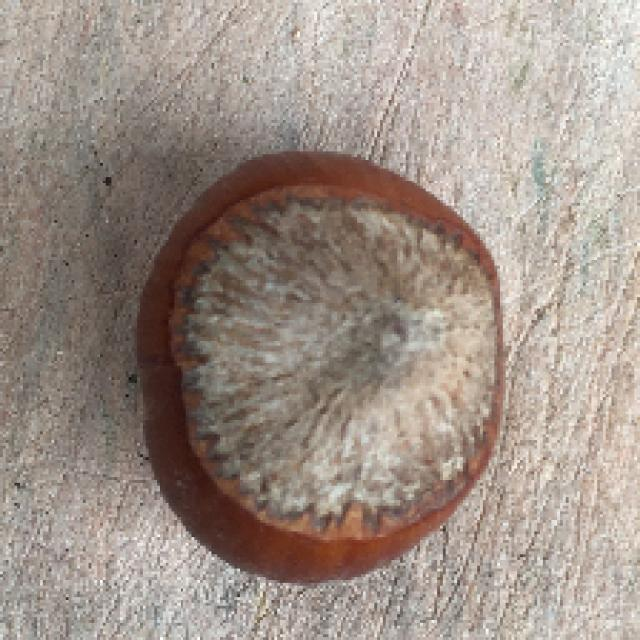qualityHazelnut: (133, 145, 506, 588)
